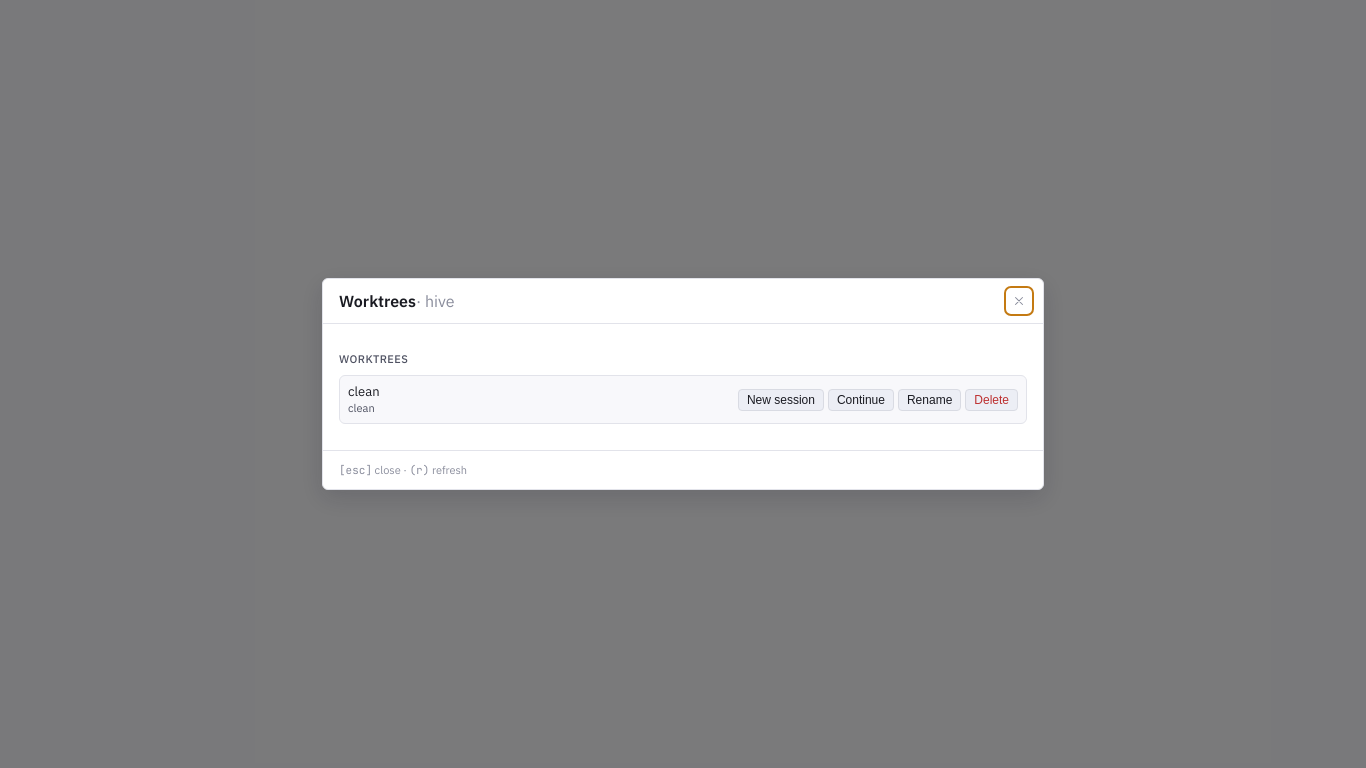
deleting › opens a dialog offering three distinct outcomes
Click the button "Delete" at [992, 400], box [965,389,1018,411]
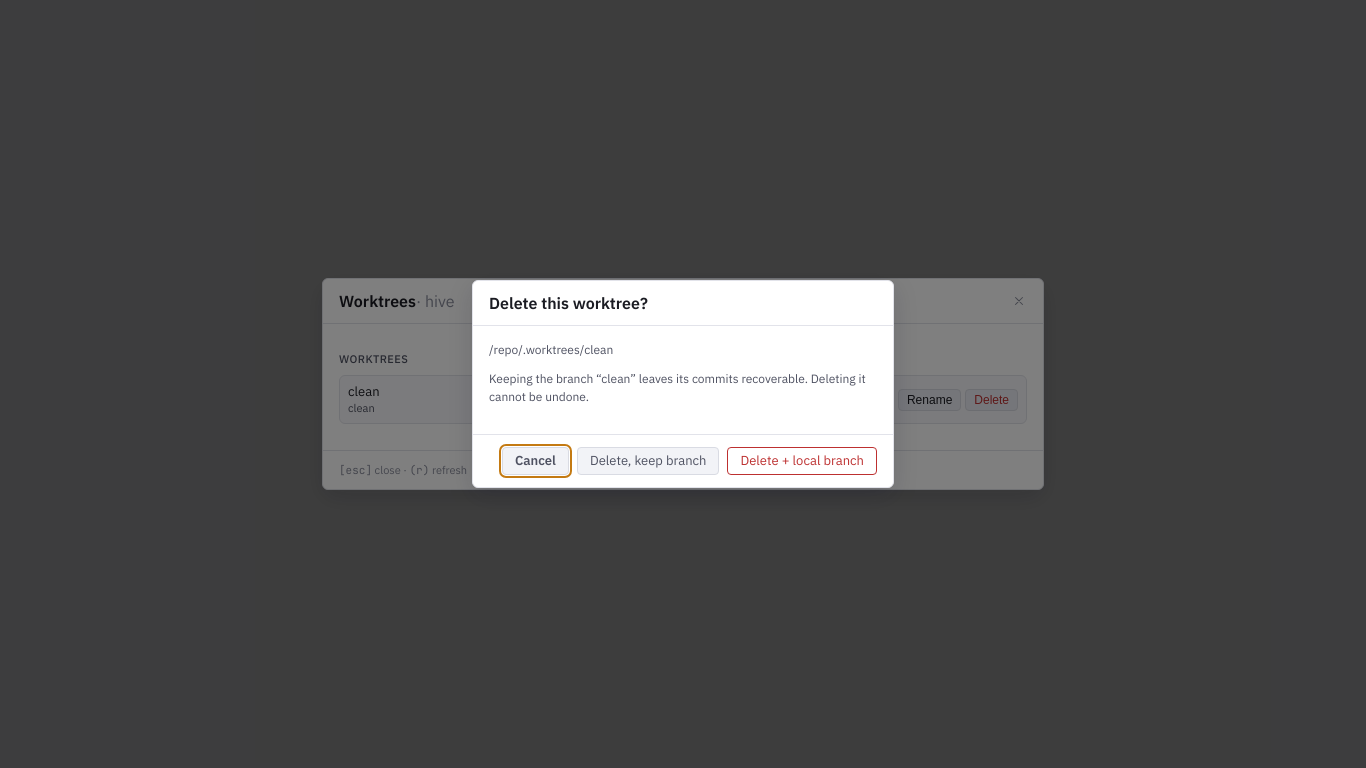
Expected: the dialog with id "choice-dialog" is shown
